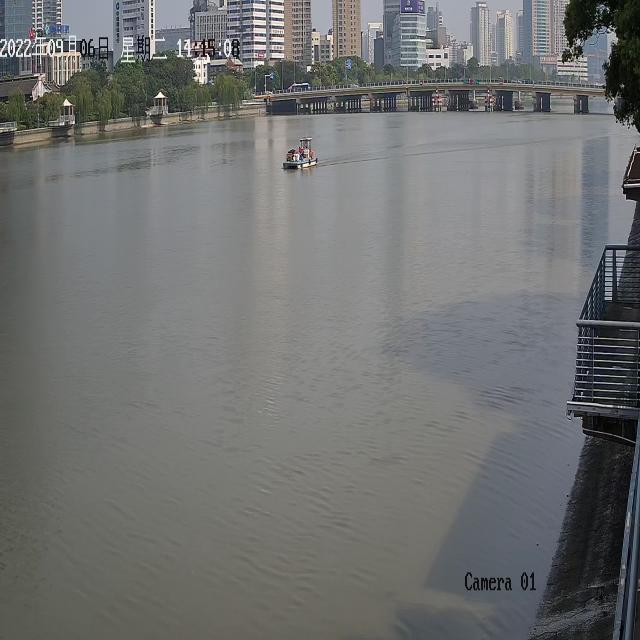ship: (282, 136, 317, 168)
